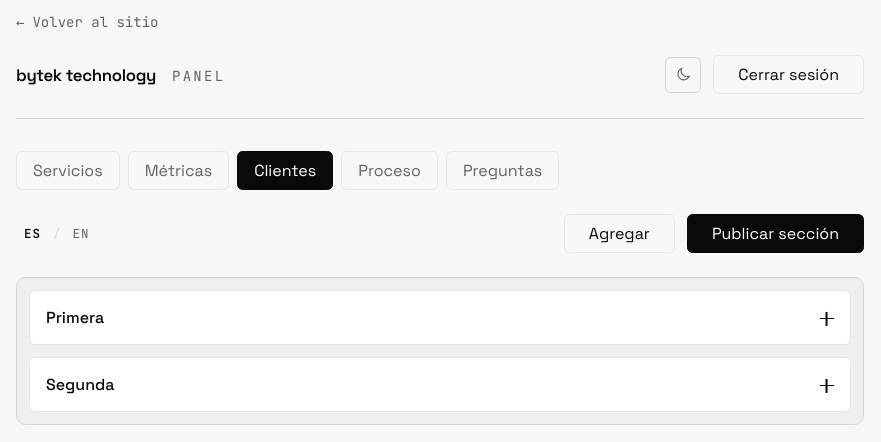
Test: AdminComponent › escribe el primer campo de la segunda fila en la segunda fila
Replace the text in the field labelled "Segunda" with "Segunda editada" at (440, 384), box [29,357,851,412]
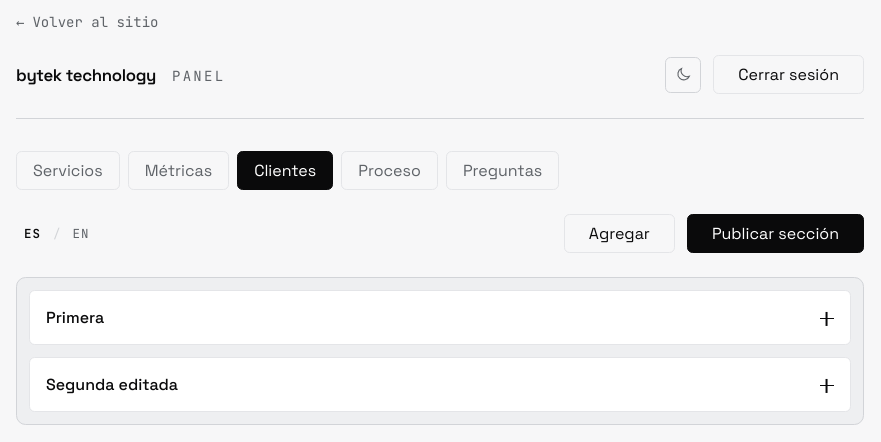
Check: the text "Primera" is shown, box [46,307,104,328]
Check: the text "Segunda editada" is shown, box [46,374,178,395]
